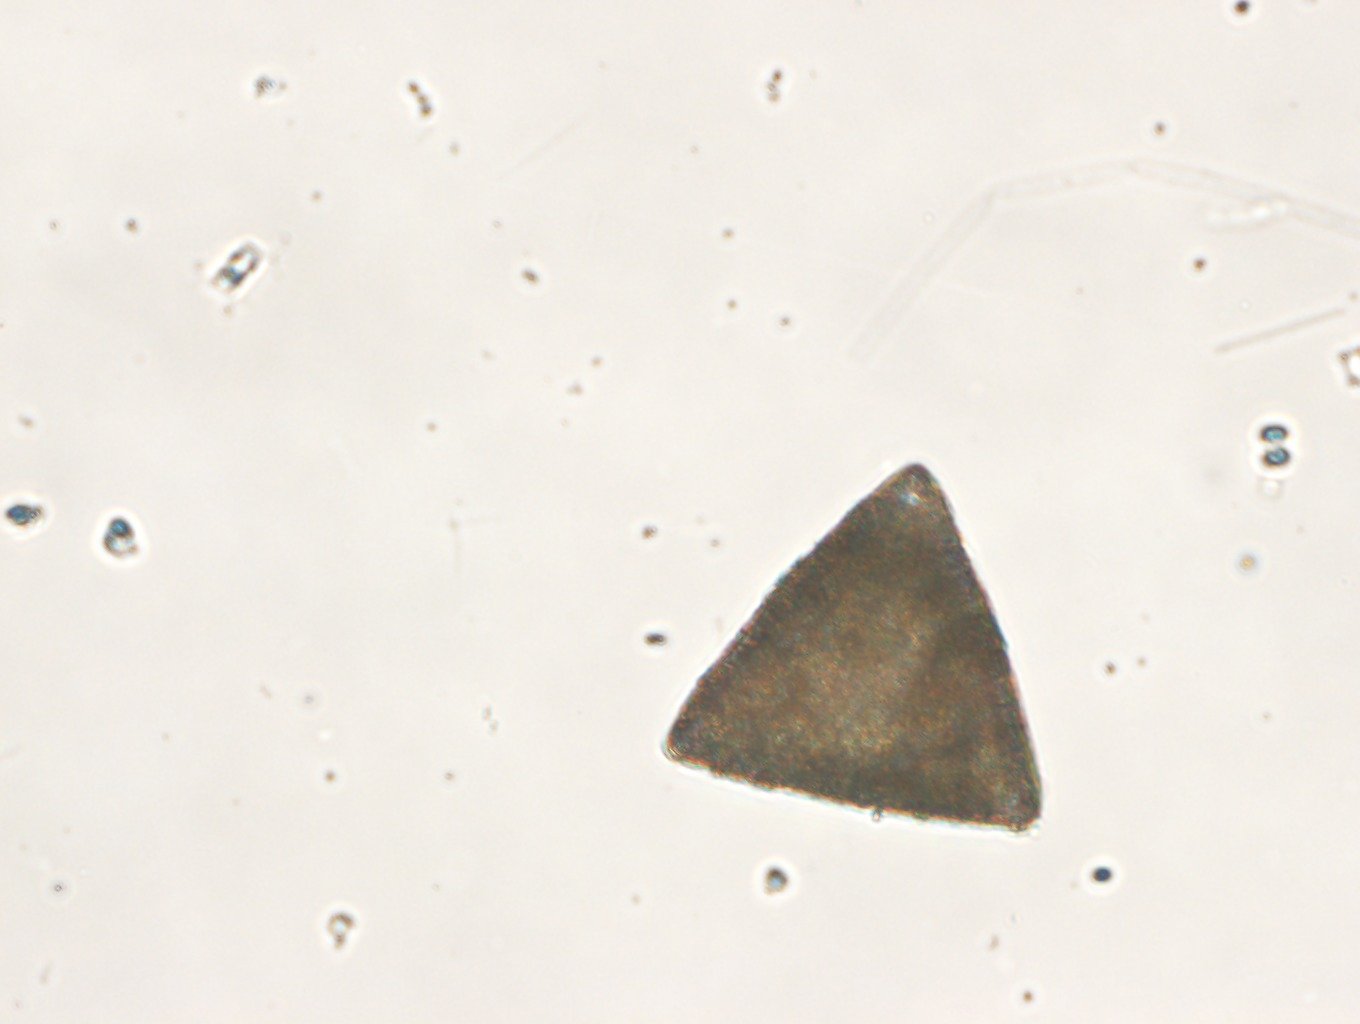coscinodiscus flank: (661, 460, 1044, 831)
